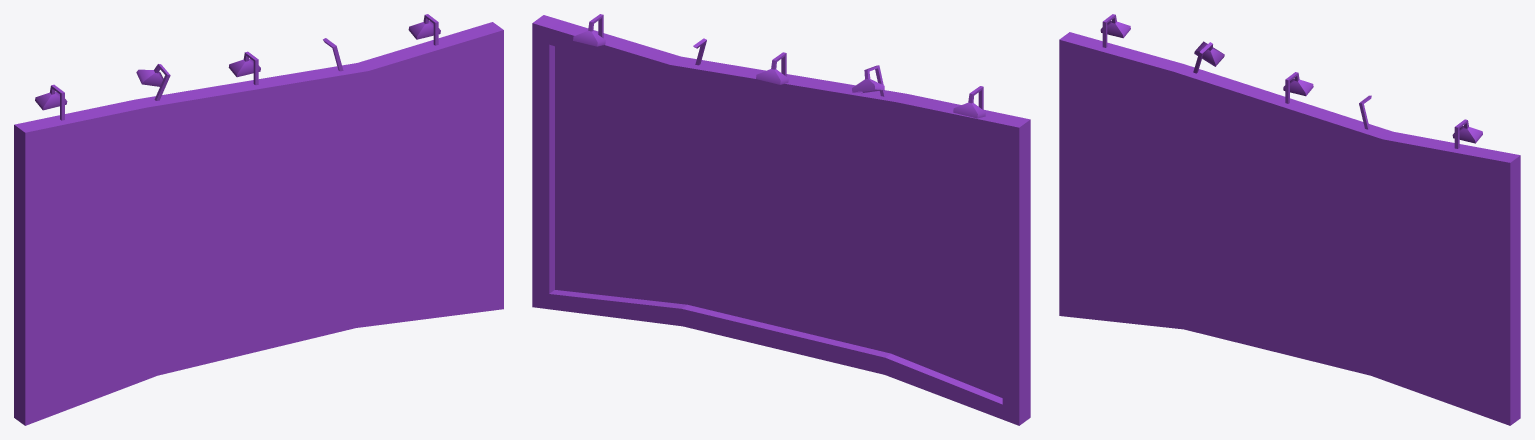
Rendered from SM_panneaugrenouille.fbx.
The picture shows the model from 3 angles, left to right: view 1: azimuth 30°, elevation 25°; view 2: azimuth 150°, elevation 25°; view 3: azimuth 330°, elevation 25°; orthographic projection. The views are drawn at different scales.
Visible parts, largest first — view 1: SM_panneaugrenouille; view 2: SM_panneaugrenouille; view 3: SM_panneaugrenouille.
Boxes of the visible parts, <box> form: SM_panneaugrenouille: <box>14,14,503,425</box>; SM_panneaugrenouille: <box>532,14,1030,425</box>; SM_panneaugrenouille: <box>1059,14,1520,425</box>.
Bounding box in the file's own units: 4796 × 3056 × 370.
